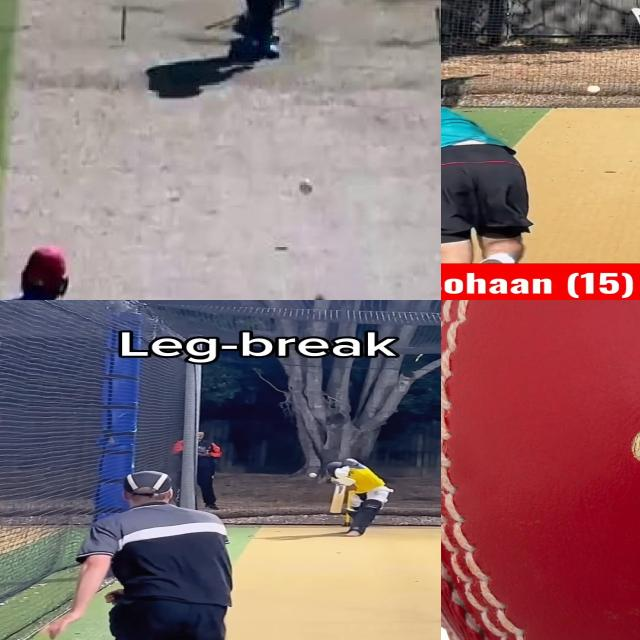Cricket ball: (441, 300, 640, 640), (298, 178, 315, 197), (586, 84, 602, 94), (308, 472, 317, 478)
